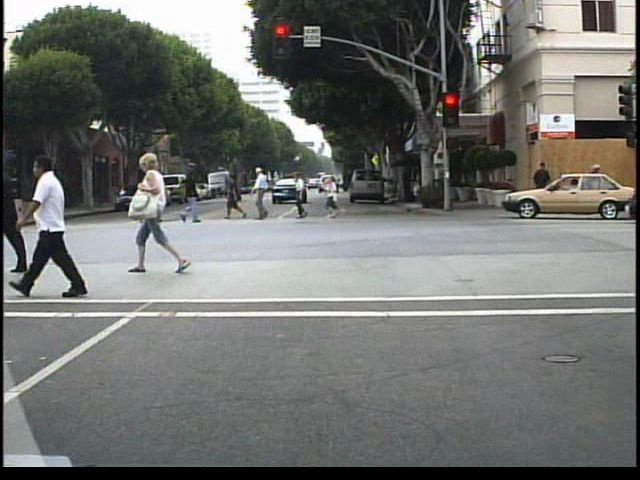person: (38, 152, 109, 299), (130, 150, 195, 279), (177, 170, 207, 228), (249, 166, 279, 222), (582, 159, 605, 214), (292, 169, 315, 222), (225, 171, 248, 223), (532, 157, 553, 212), (142, 171, 162, 225), (4, 184, 24, 236), (16, 195, 37, 238)
